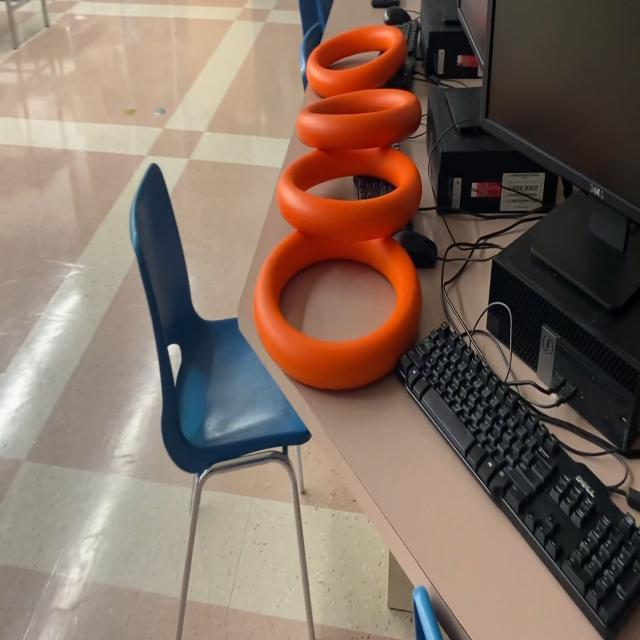note: (252, 229, 422, 398), (276, 144, 423, 244), (296, 86, 422, 152), (305, 20, 406, 100)
